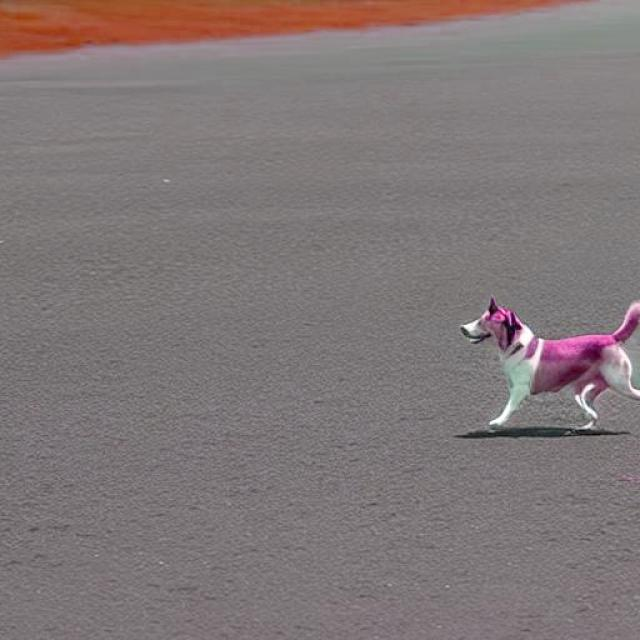Dog: (460, 294, 640, 428)
